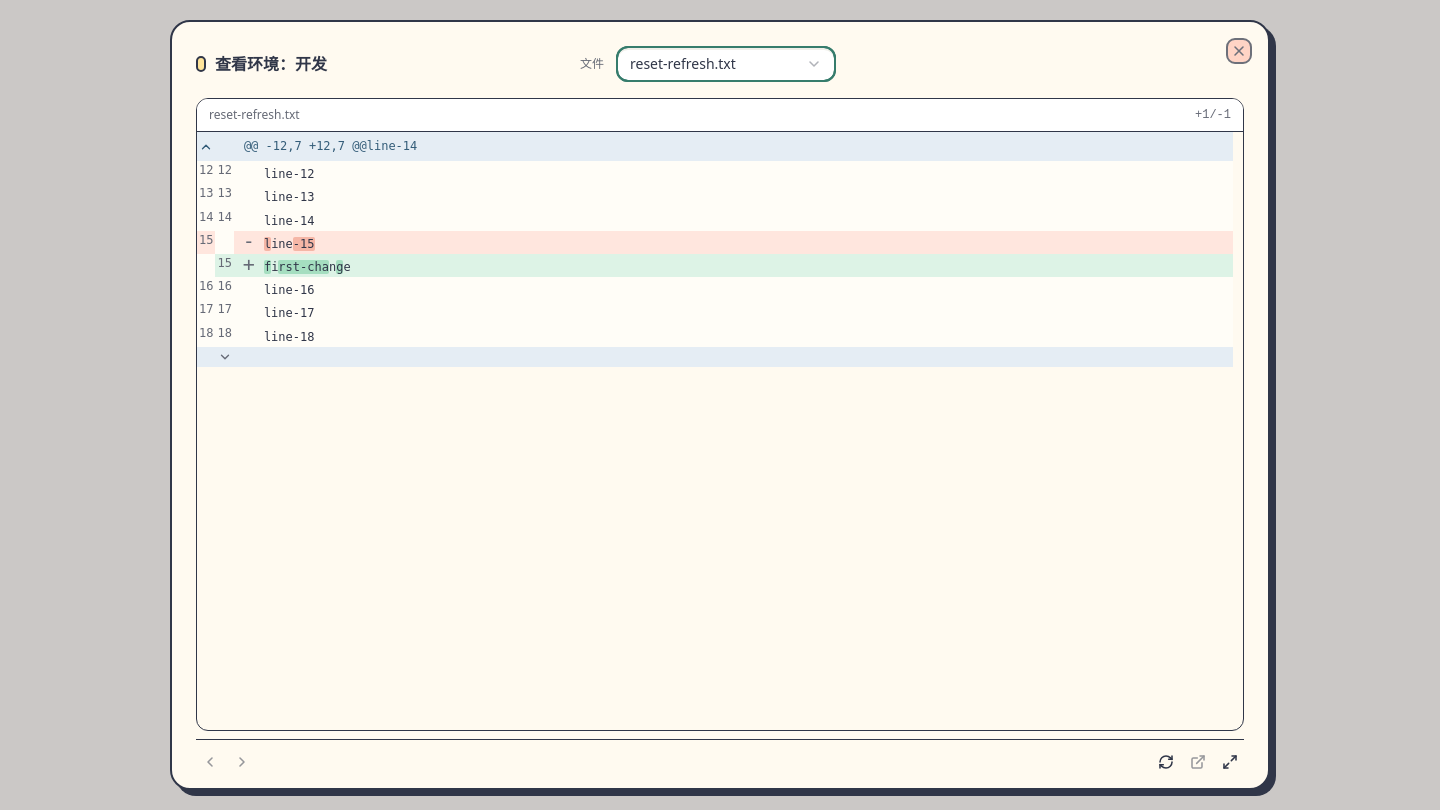
Test case: EnvironmentDiffDialog › resets expansion after refreshing the same selected file
This screenshot has width=1440, height=810.
Click the button named "向上展开10行" at (206, 147), box [197,137,215,157]
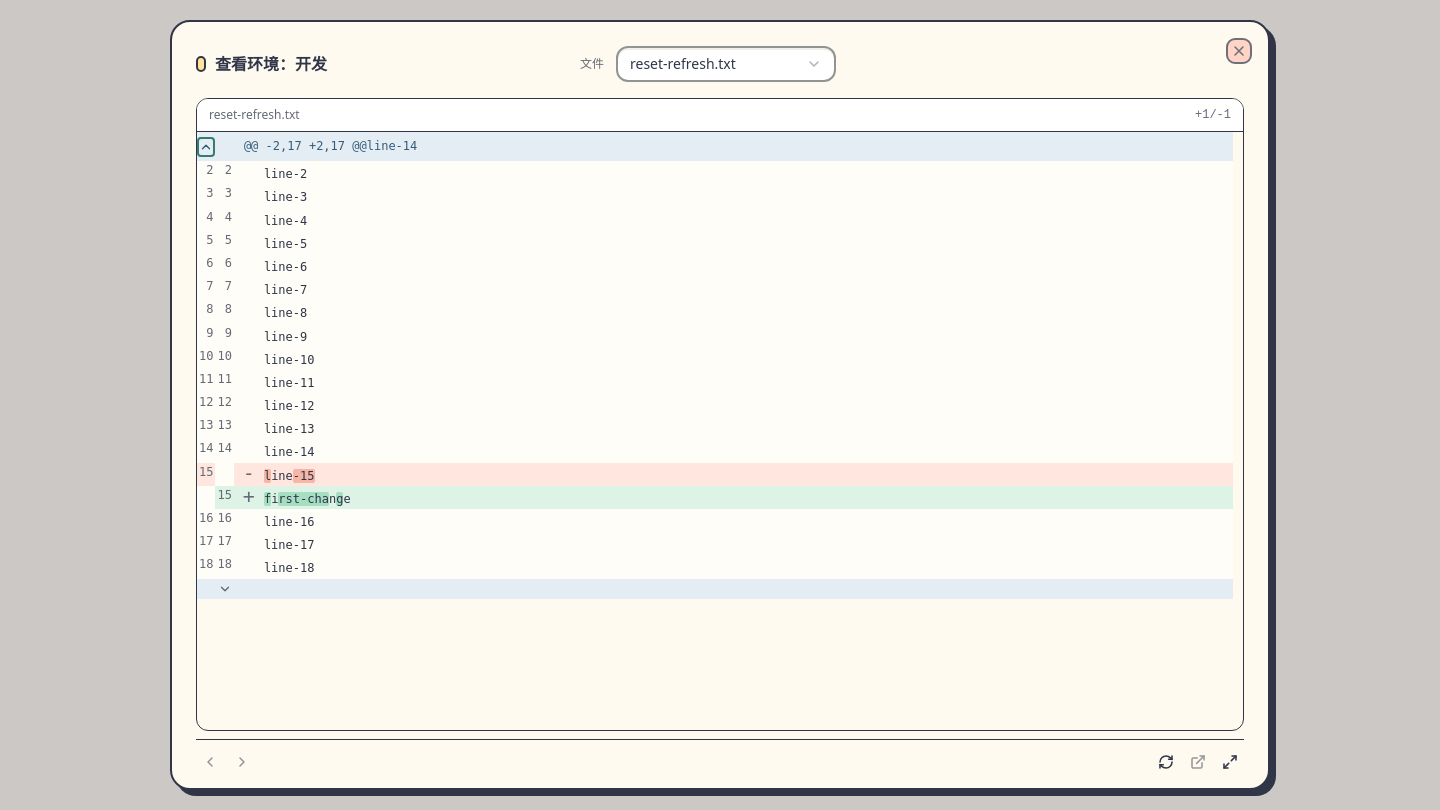
Click the button named "刷新当前文件差异" at (1166, 762), box [1152,748,1180,776]
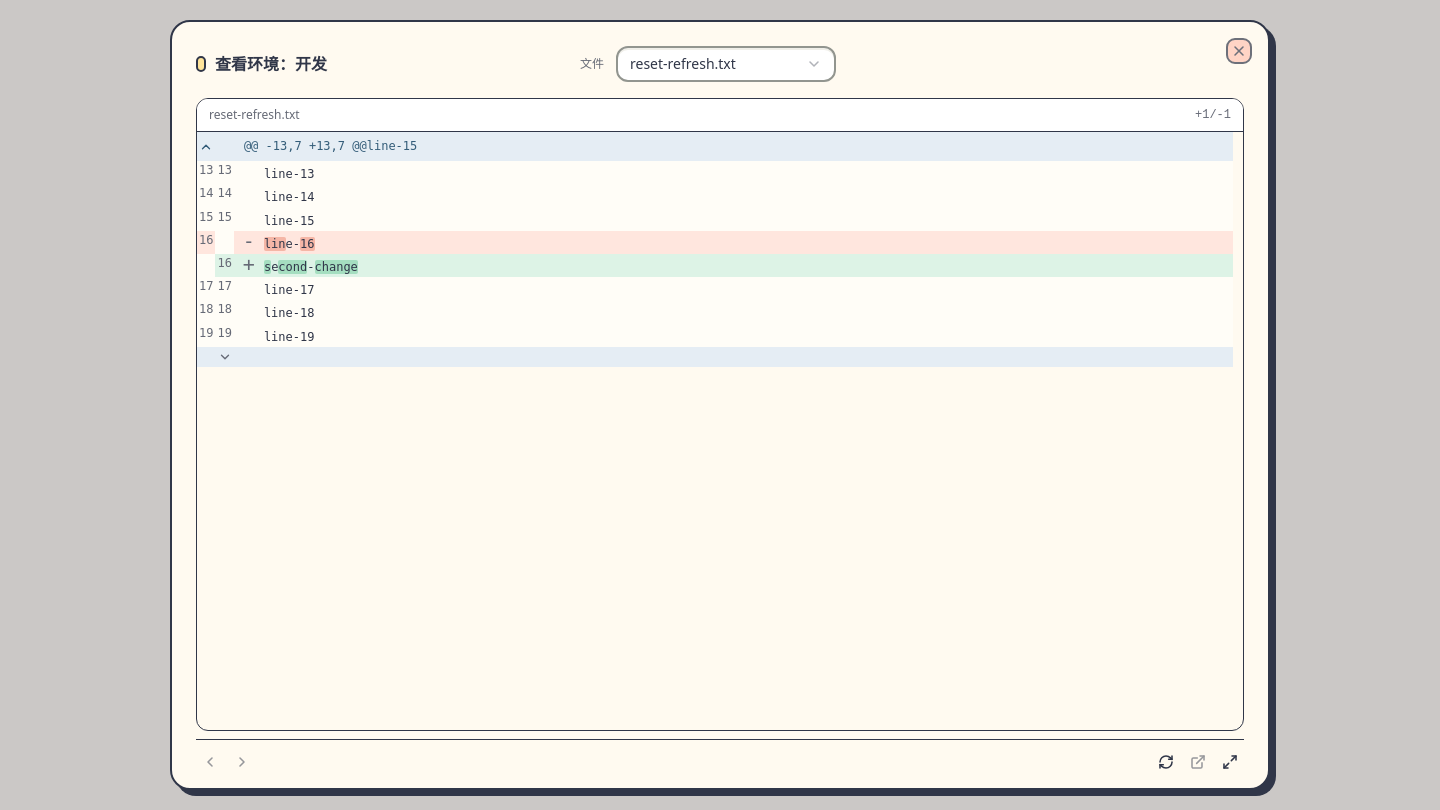
expect the text "second-change" is shown: met, box [234,254,1233,277]
